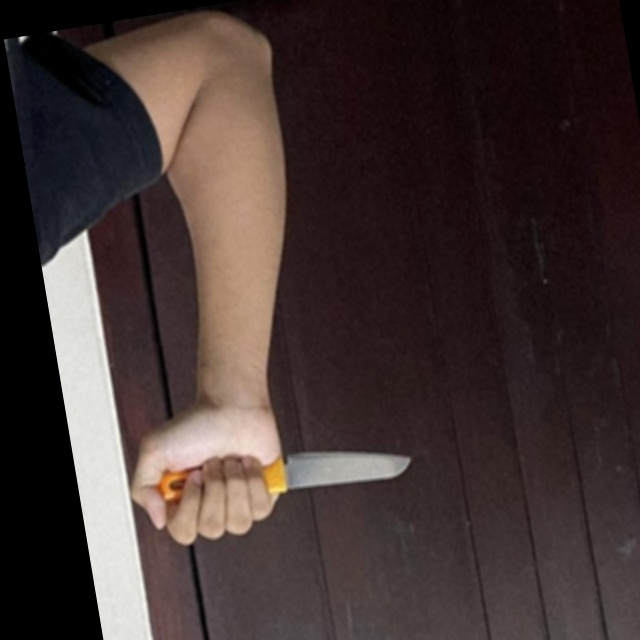Sharp-Object: (142, 426, 415, 523)
